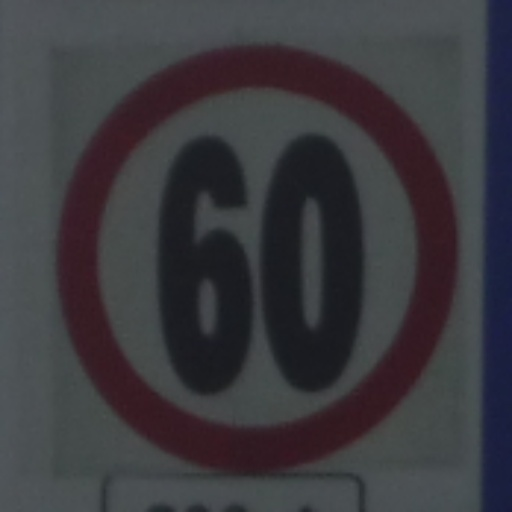Speed limit: (40, 50, 469, 438)
